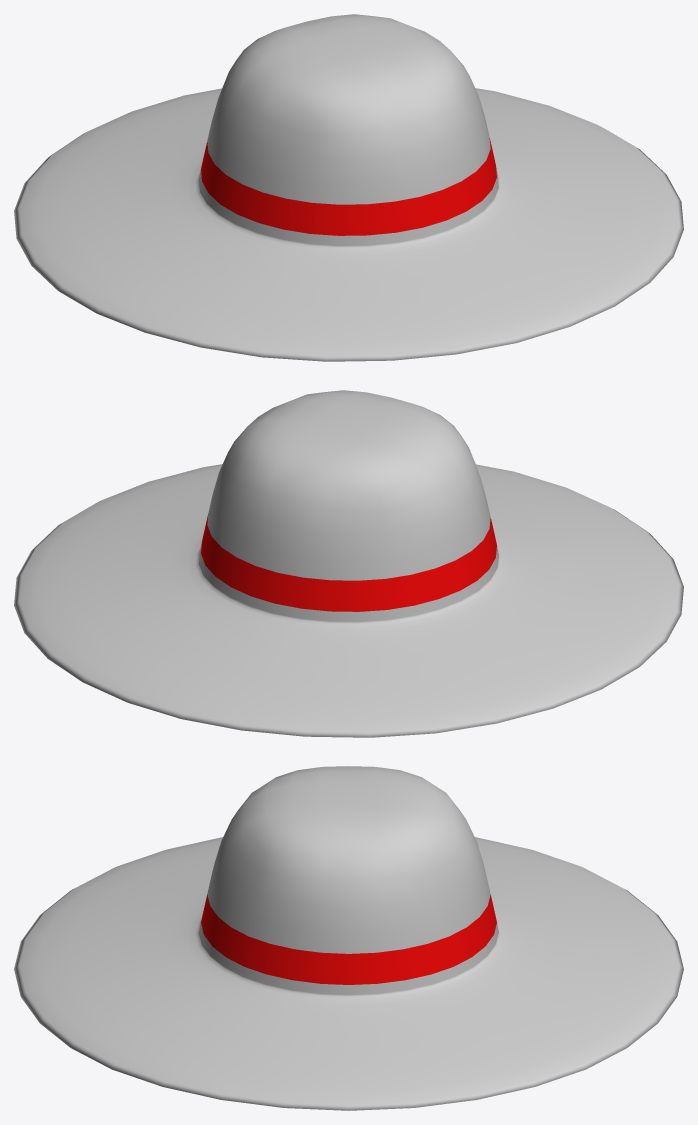
The model's file is Hatfbx.fbx.
The picture shows the model from 3 angles, top to bottom: view 1: azimuth 30°, elevation 25°; view 2: azimuth 150°, elevation 25°; view 3: azimuth 270°, elevation 25°; orthographic projection.
Parts seen in each view (by area): view 1: pCube1; view 2: pCube1; view 3: pCube1.
Boxes of the visible parts, bbox=[...] form: pCube1: bbox=[14, 14, 683, 361]; pCube1: bbox=[14, 390, 683, 737]; pCube1: bbox=[14, 766, 683, 1110].
Size of the model in its own units: 28.83 by 8.41 by 28.83.
